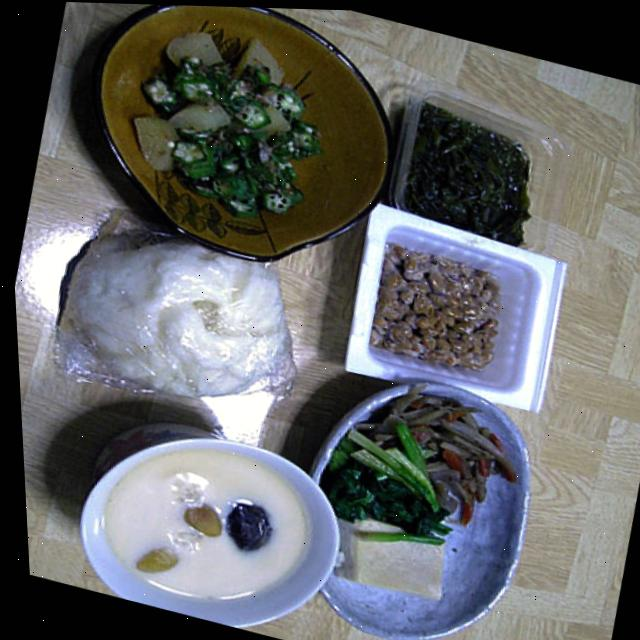蔬菜料理: (268, 339, 574, 640)
鸡蛋料理: (53, 411, 343, 640)
